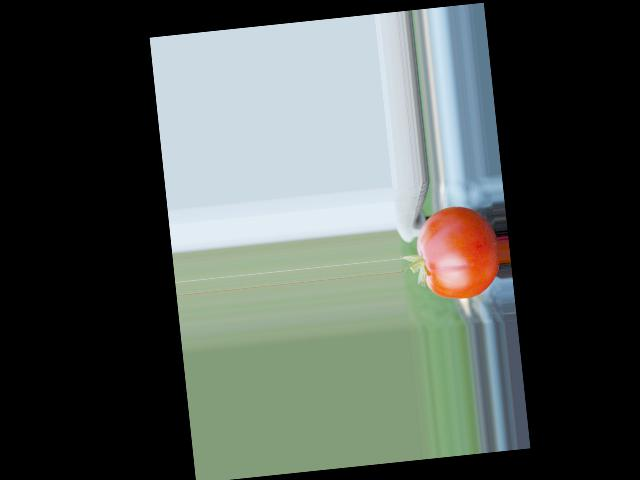tomato: (413, 202, 503, 303)
